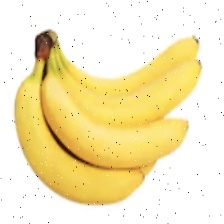banana: (29, 24, 198, 176)
